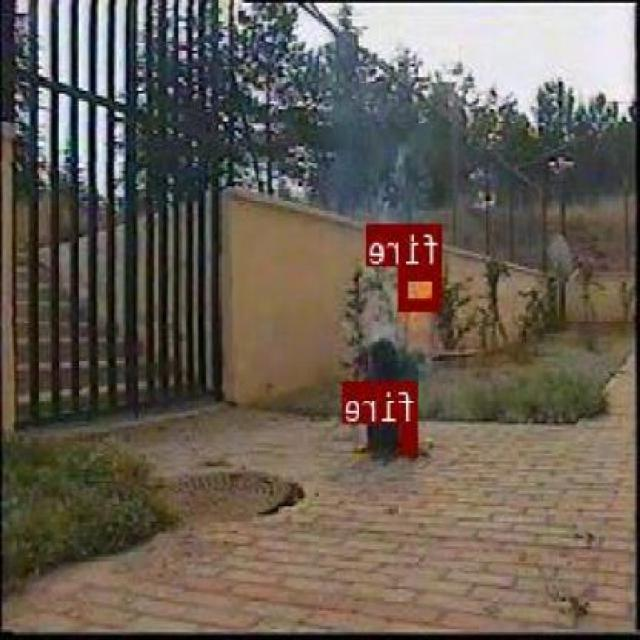Fire: (402, 264, 442, 310), (404, 424, 420, 448)
